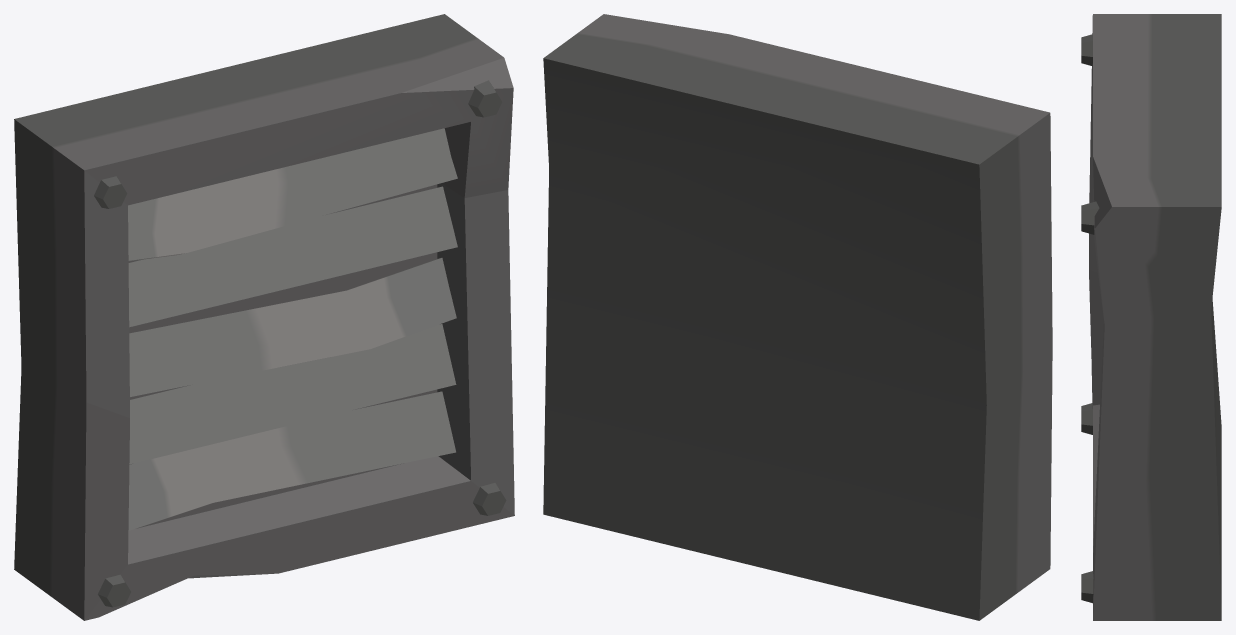
The model's file is SM_Prop_Air_Duct_End_01.fbx.
The picture shows the model from 3 angles, left to right: view 1: azimuth 30°, elevation 25°; view 2: azimuth 150°, elevation 25°; view 3: azimuth 270°, elevation 25°; orthographic projection. The views are drawn at different scales.
Visible parts, largest first — view 1: SM_Prop_Air_Duct_End_01; view 2: SM_Prop_Air_Duct_End_01; view 3: SM_Prop_Air_Duct_End_01.
Boxes of the visible parts, box(x1,y1,x2,y2) form: SM_Prop_Air_Duct_End_01: box(14, 14, 514, 620); SM_Prop_Air_Duct_End_01: box(543, 14, 1052, 620); SM_Prop_Air_Duct_End_01: box(1081, 14, 1221, 620).
Bounding box in the file's own units: 88.97 × 88.97 × 27.37.
